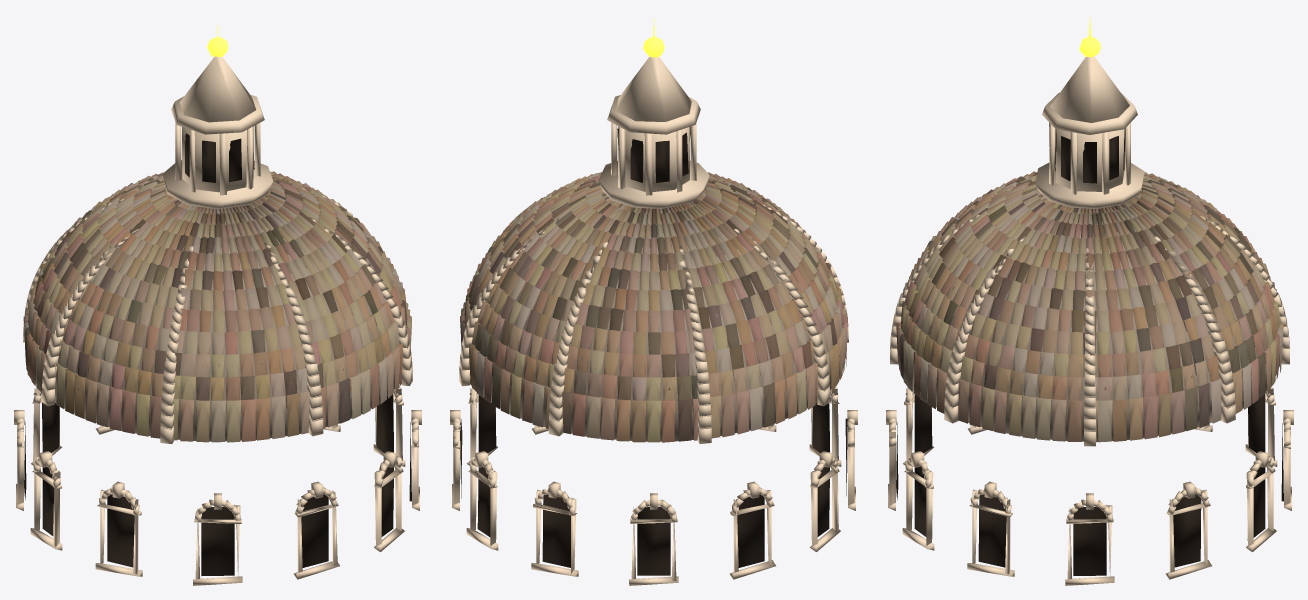
Rendered from dome_w3_lod1.glb.
3 renders of one model, left to right at view 1: azimuth 30°, elevation 25°; view 2: azimuth 150°, elevation 25°; view 3: azimuth 270°, elevation 25°, orthographic.
Visible parts, largest first — view 1: LODTMP; view 2: LODTMP; view 3: LODTMP.
Part boxes in pixels (x1,y1,x2,y2): LODTMP: [14, 25, 421, 585]; LODTMP: [450, 18, 857, 585]; LODTMP: [886, 17, 1293, 585].
Bounding box in the file's own units: 17.24 × 22.7 × 17.24.
Materials: 4 (1 with a texture image).
